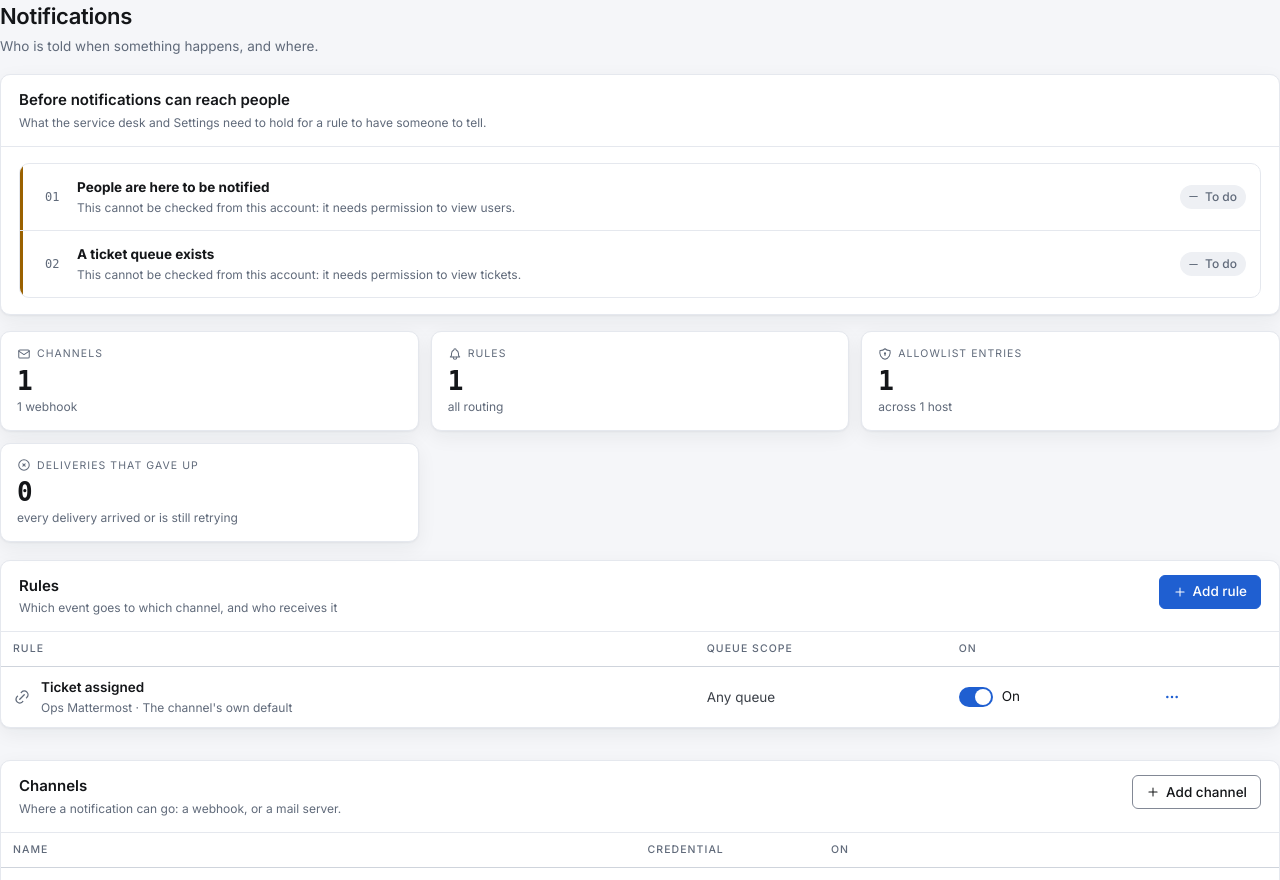
Scenario: notification channels form › refuses a webhook URL that is not a URL, before it can silently drop deliveries
Click the button "Add channel" at [1197, 792], box [1132,775,1261,809]
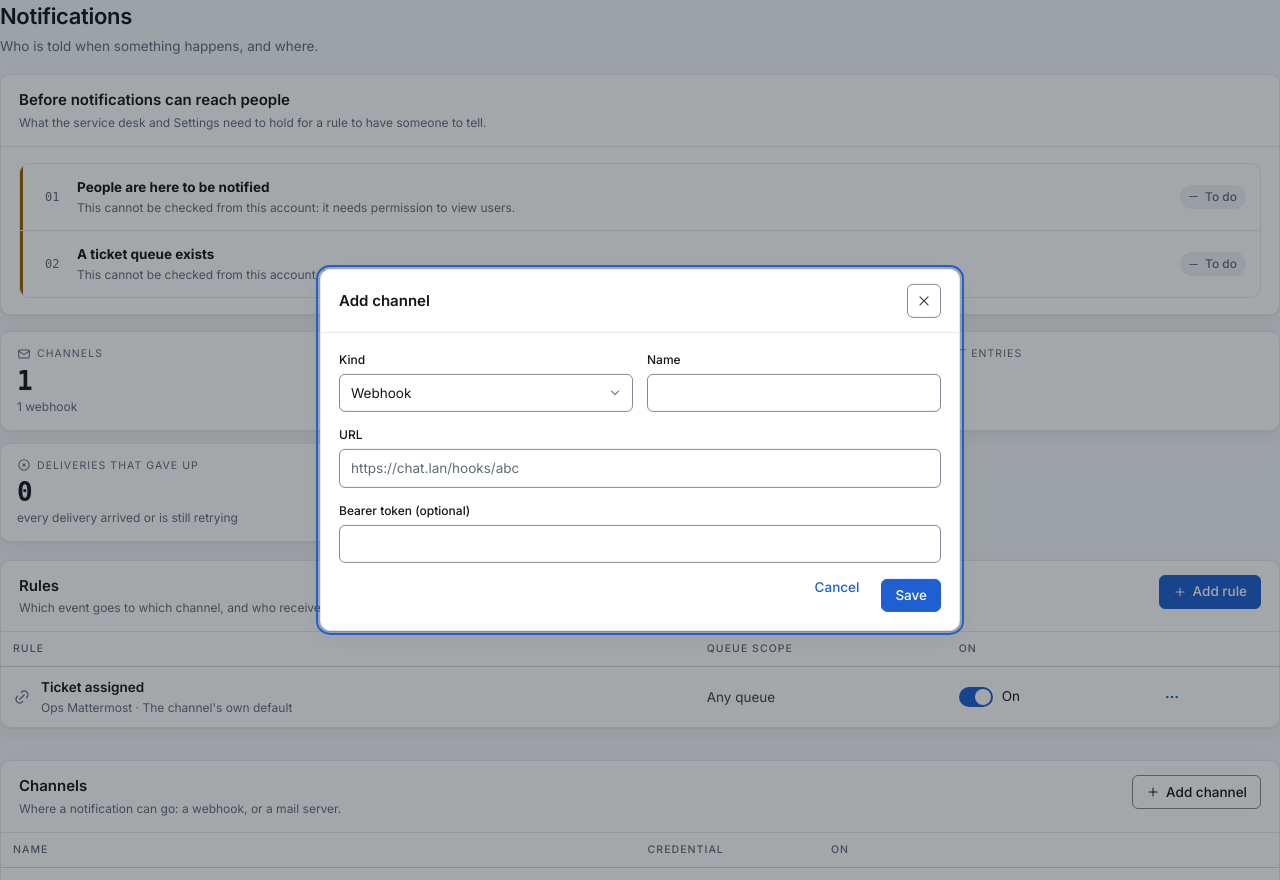
Type "Ops chat" into the field labelled "Name" at [794, 393], box [647,374,941,412]
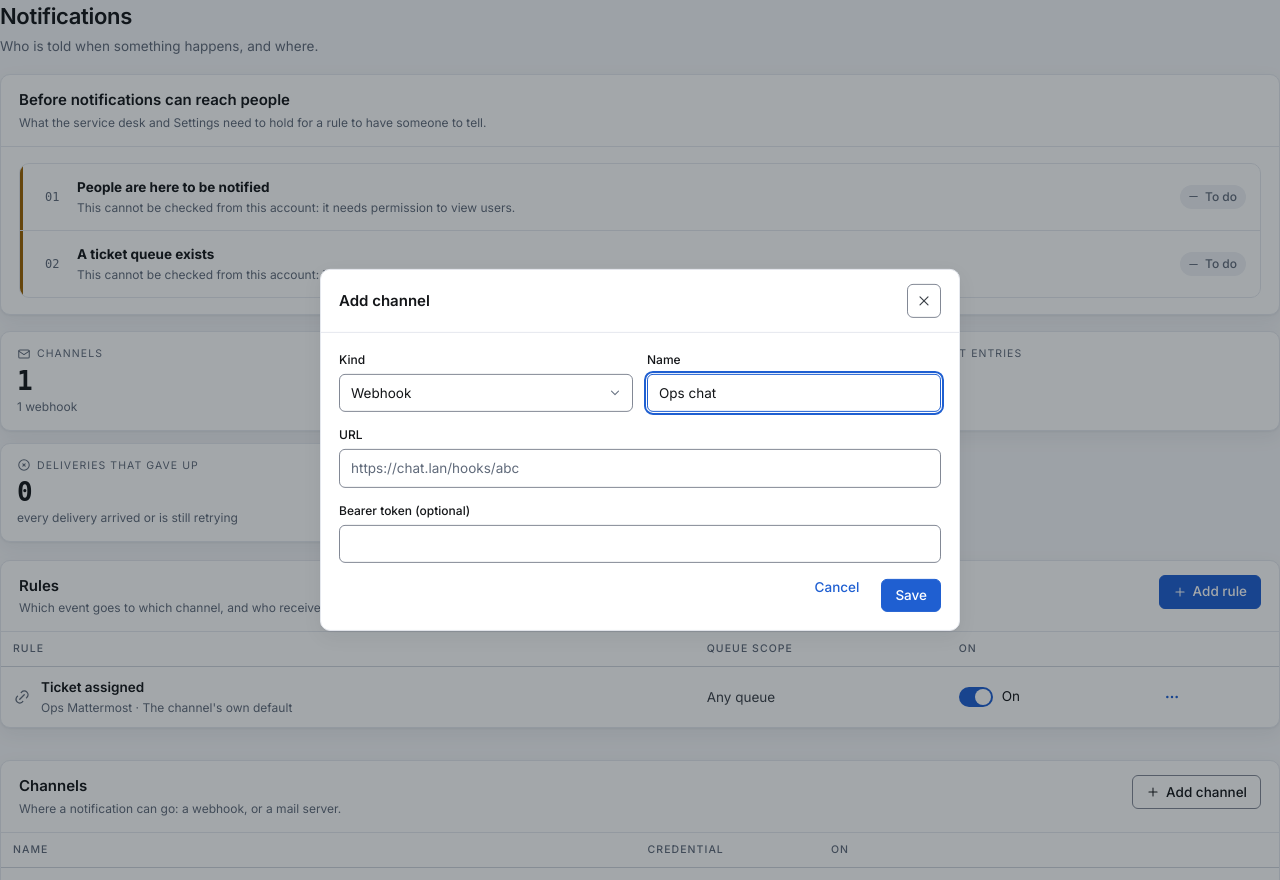
Type "chat.lan/hooks/abc" into the field labelled "URL" at [640, 468], box [339,449,941,487]
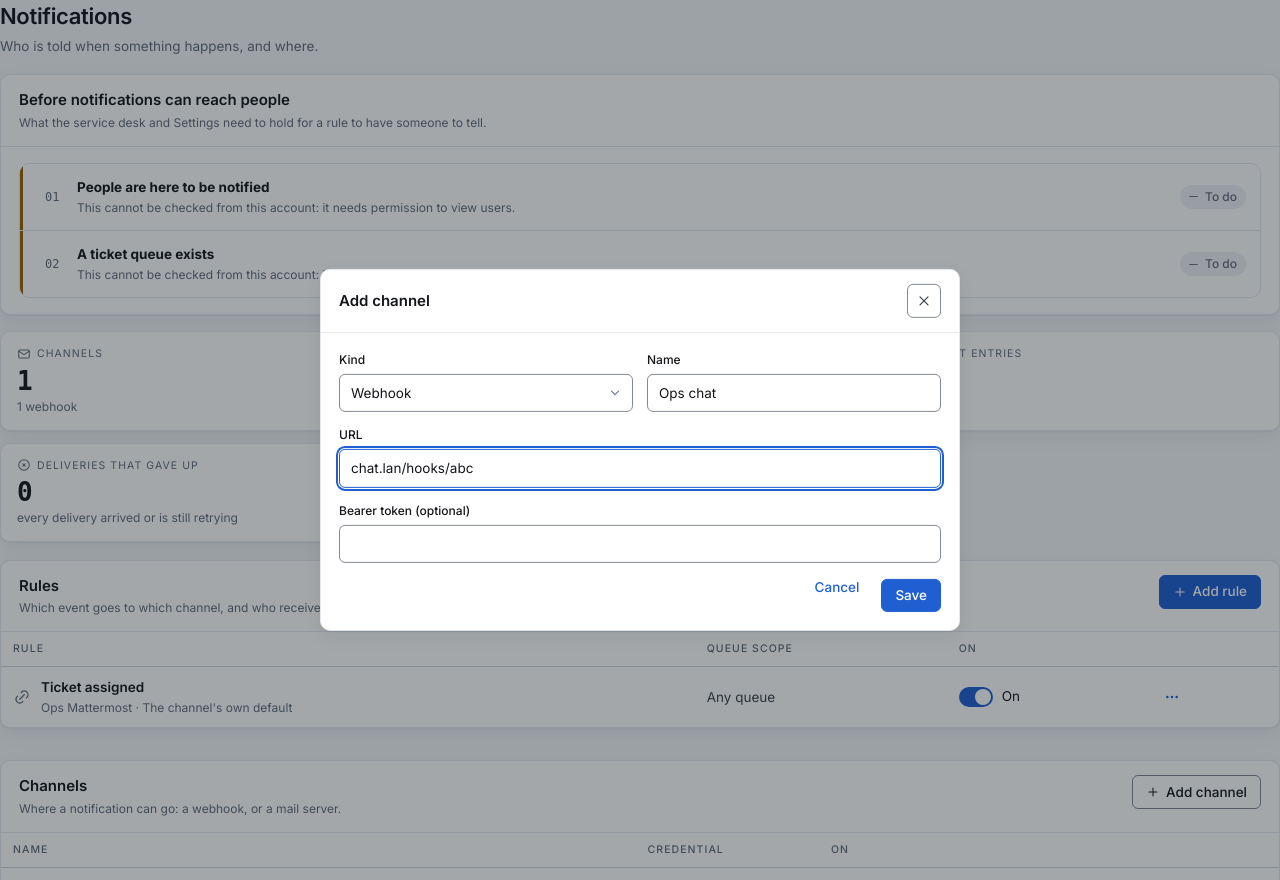
Click the button "Save" at [911, 595], box [881,579,941,612]
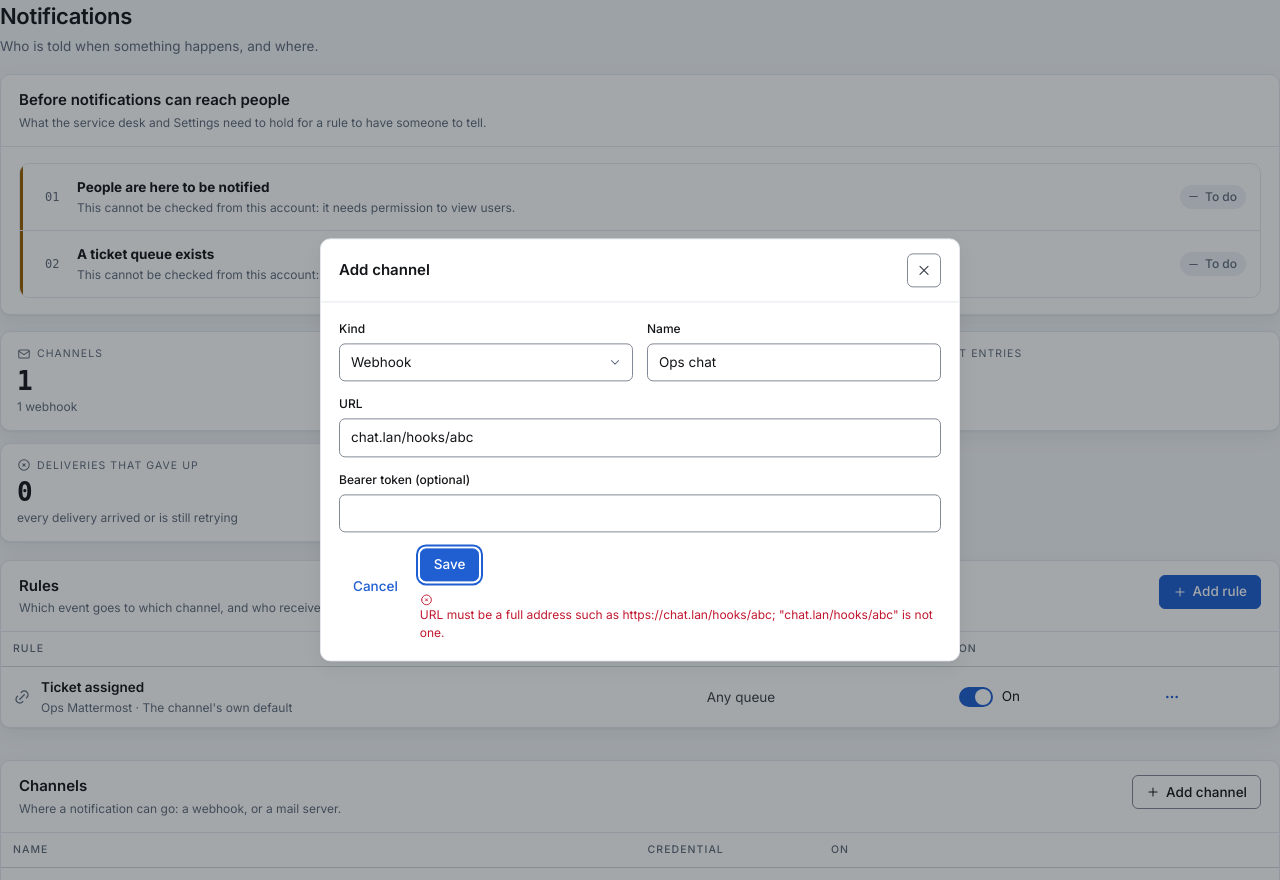
Now the message shows "URL must be a full address such as https://chat.lan/hooks/abc", box [420,608,933,641]
